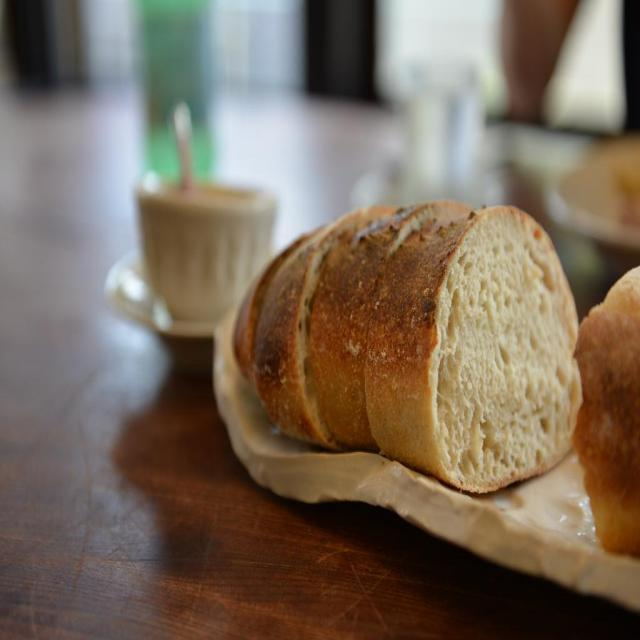Bread: (364, 205, 584, 483), (310, 200, 462, 447), (253, 202, 389, 456), (573, 267, 640, 558), (230, 227, 318, 379)
